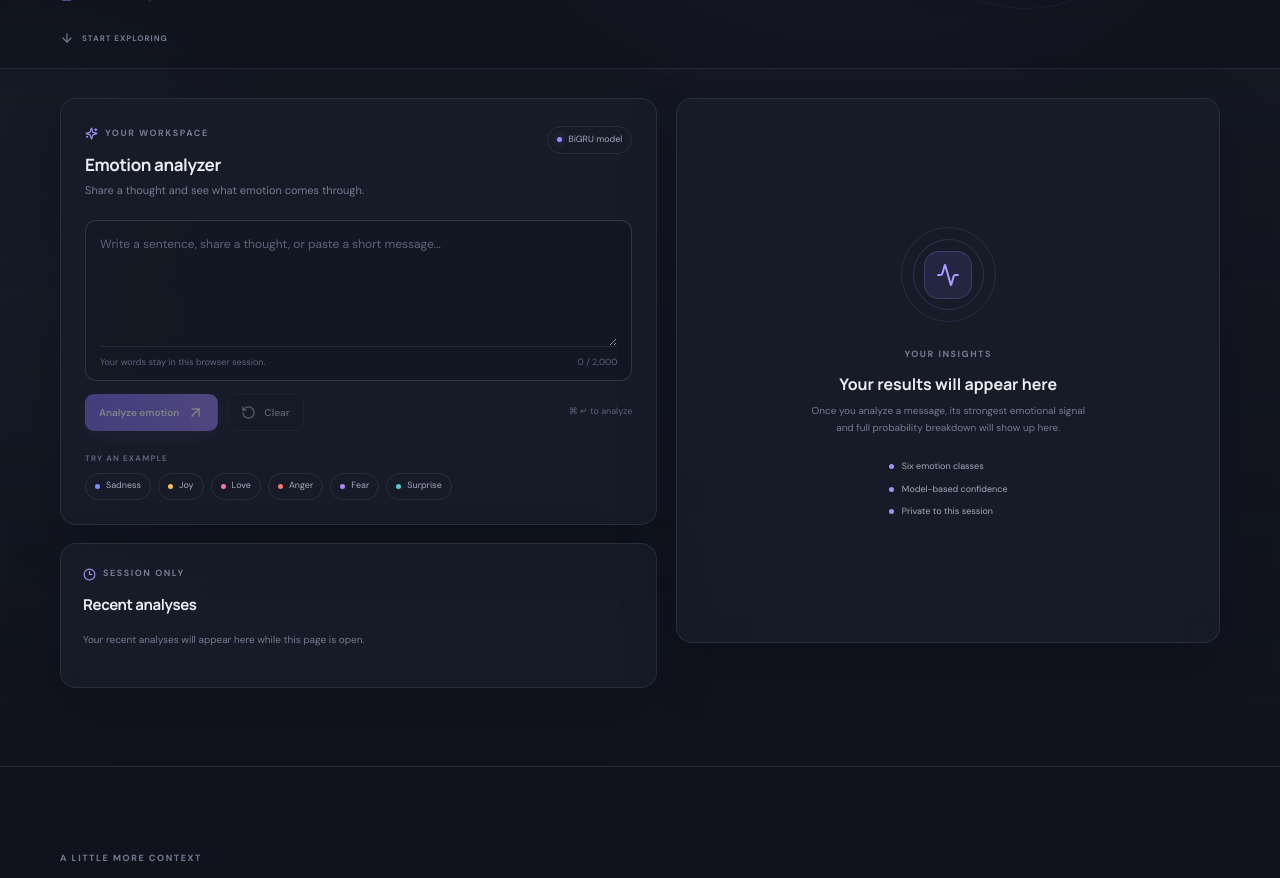
Test: EmotionAI dashboard › fills an example, clears input, and clears session history
(page scrolled)
Click the button "Surprise" at [419, 486], box [386,473,452,500]
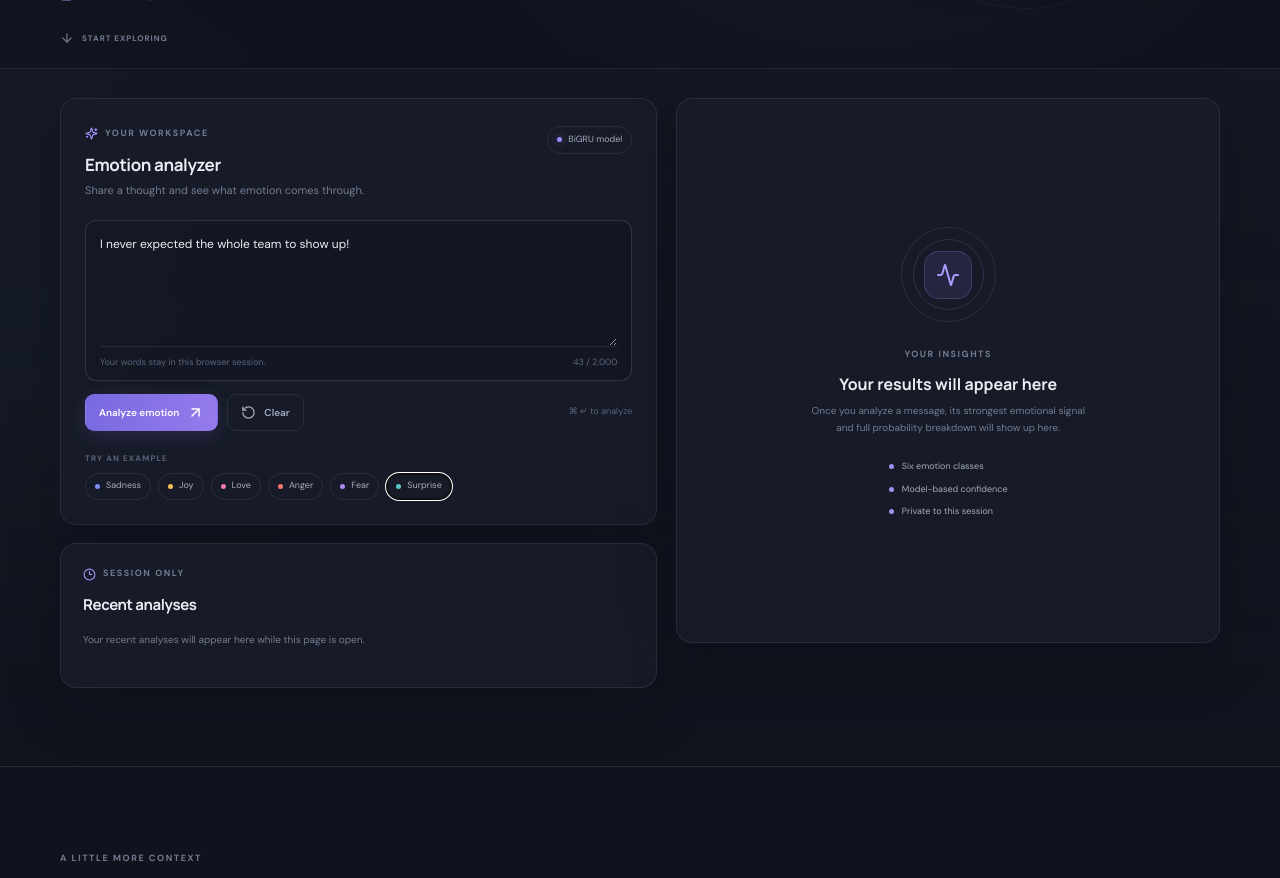
expect the text box named "Text to analyze" holds "I never expected the whole team to show up!": met, box [100,234,617,346]
Click the button "Clear" at [266, 412], box [227,394,304,431]
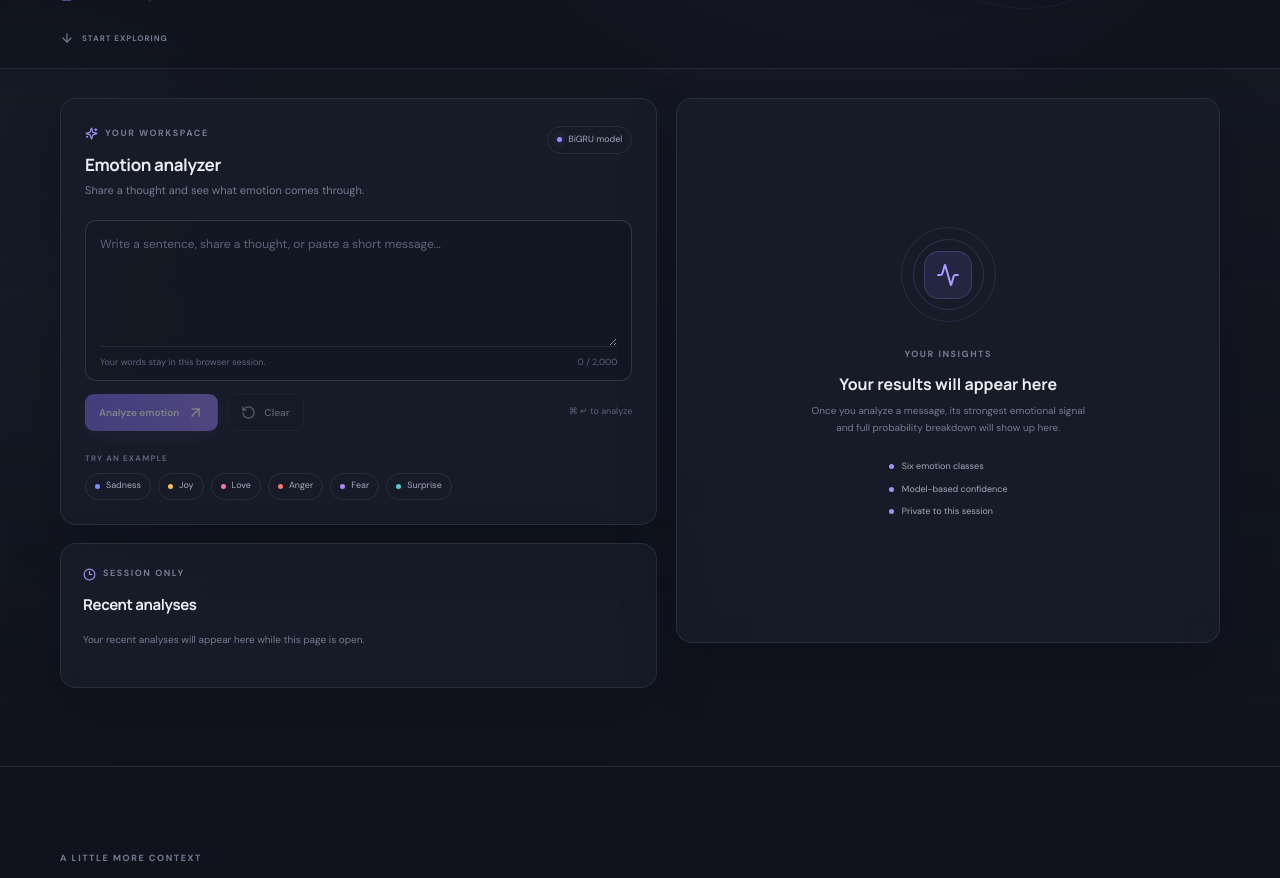
expect the text box named "Text to analyze" is empty: met
Replace the text in the text box named "Text to analyze" with "I feel so grateful to have you in my life." at [359, 290], box [100,234,617,346]
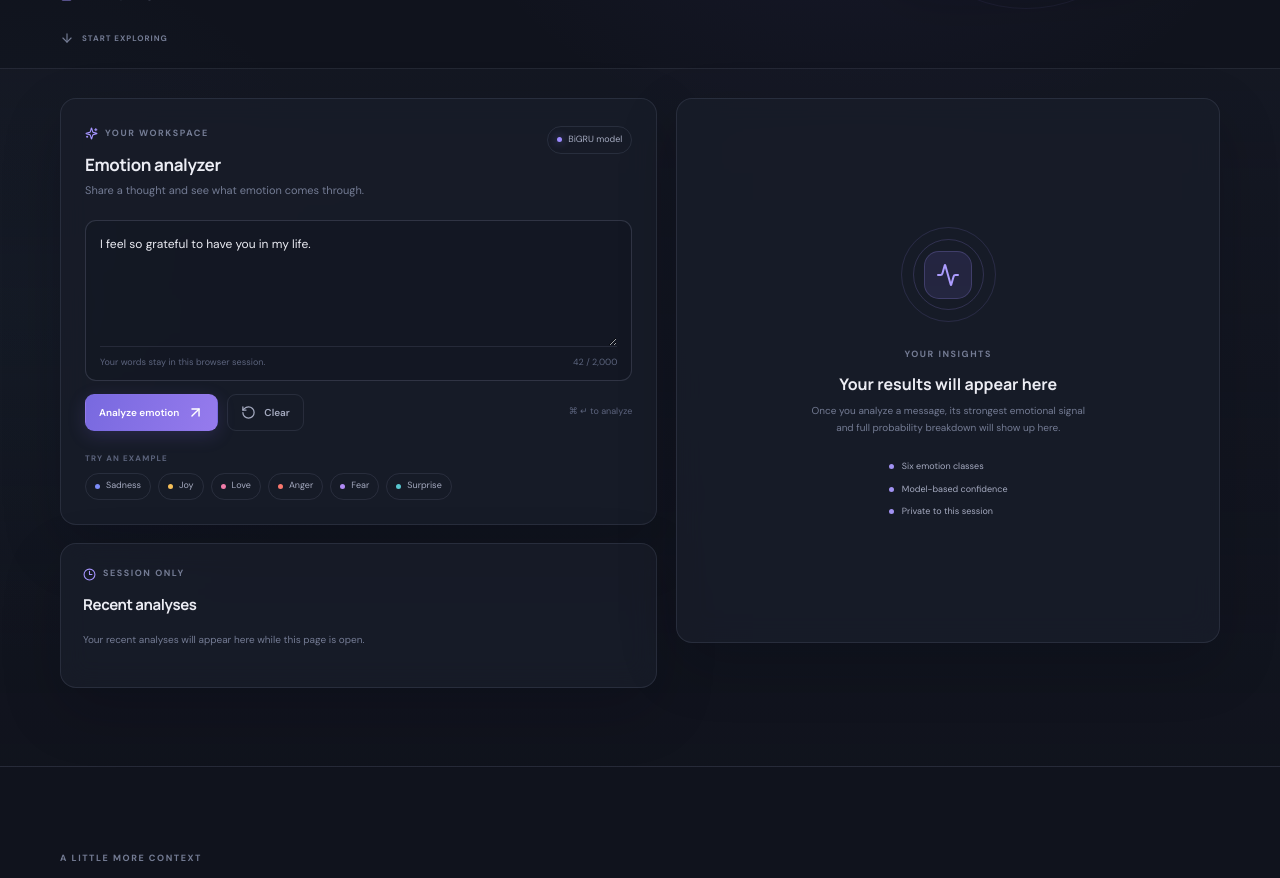
Click the button "Analyze emotion" at [152, 412], box [85,394,218,431]
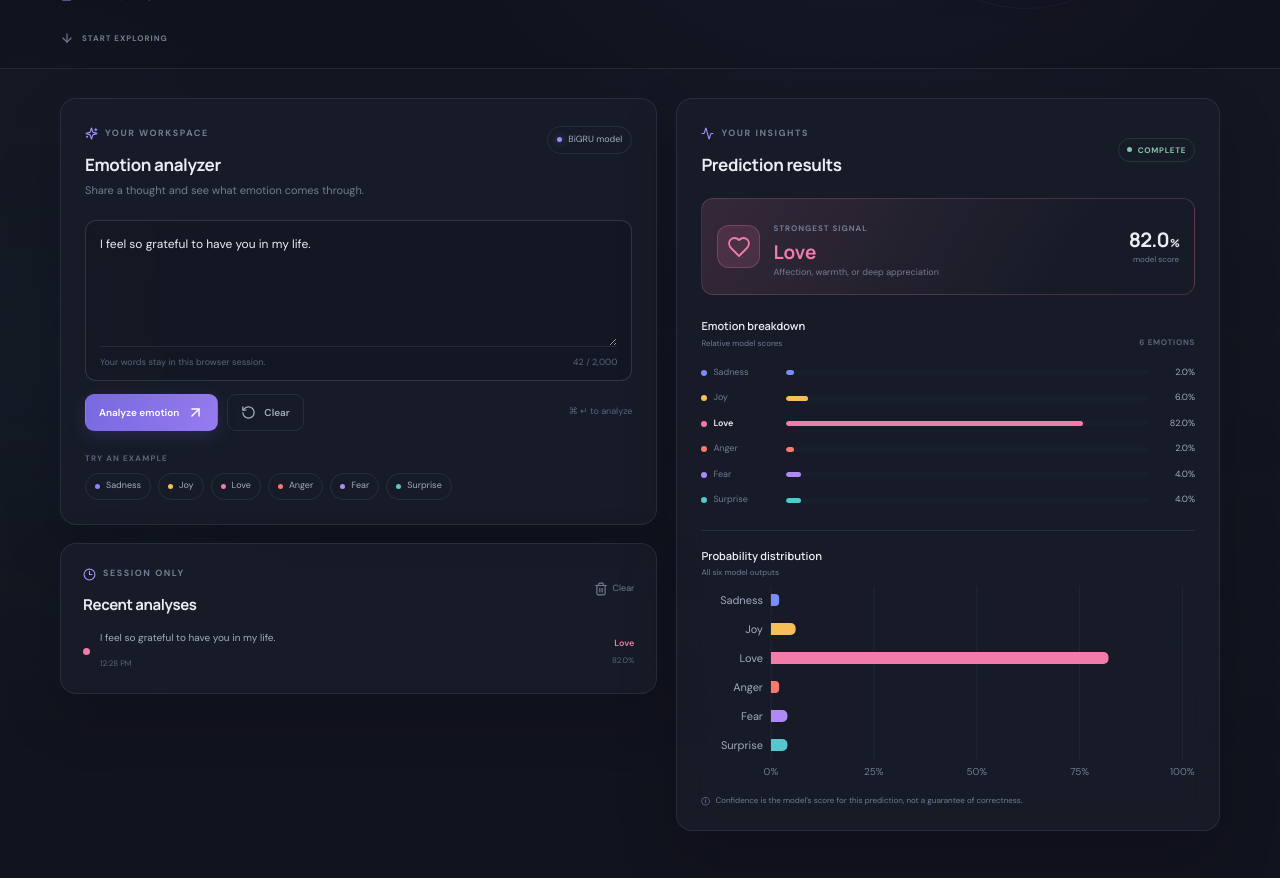
Click the button with aria-label "Clear recent analyses" at [614, 589], box [594,577,634,601]
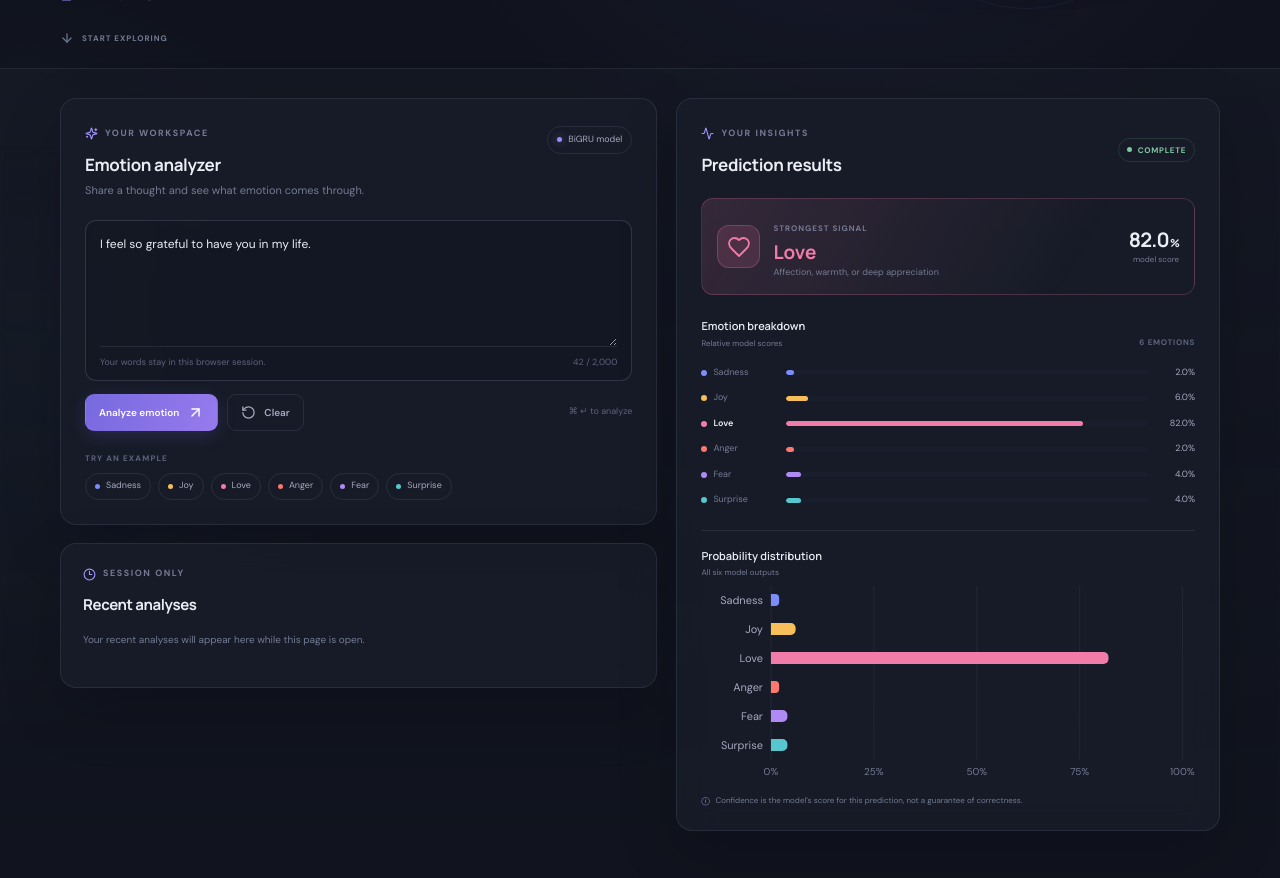
expect the text "Your recent analyses will appear here while this page is open." is shown: met, box [83,633,364,646]
